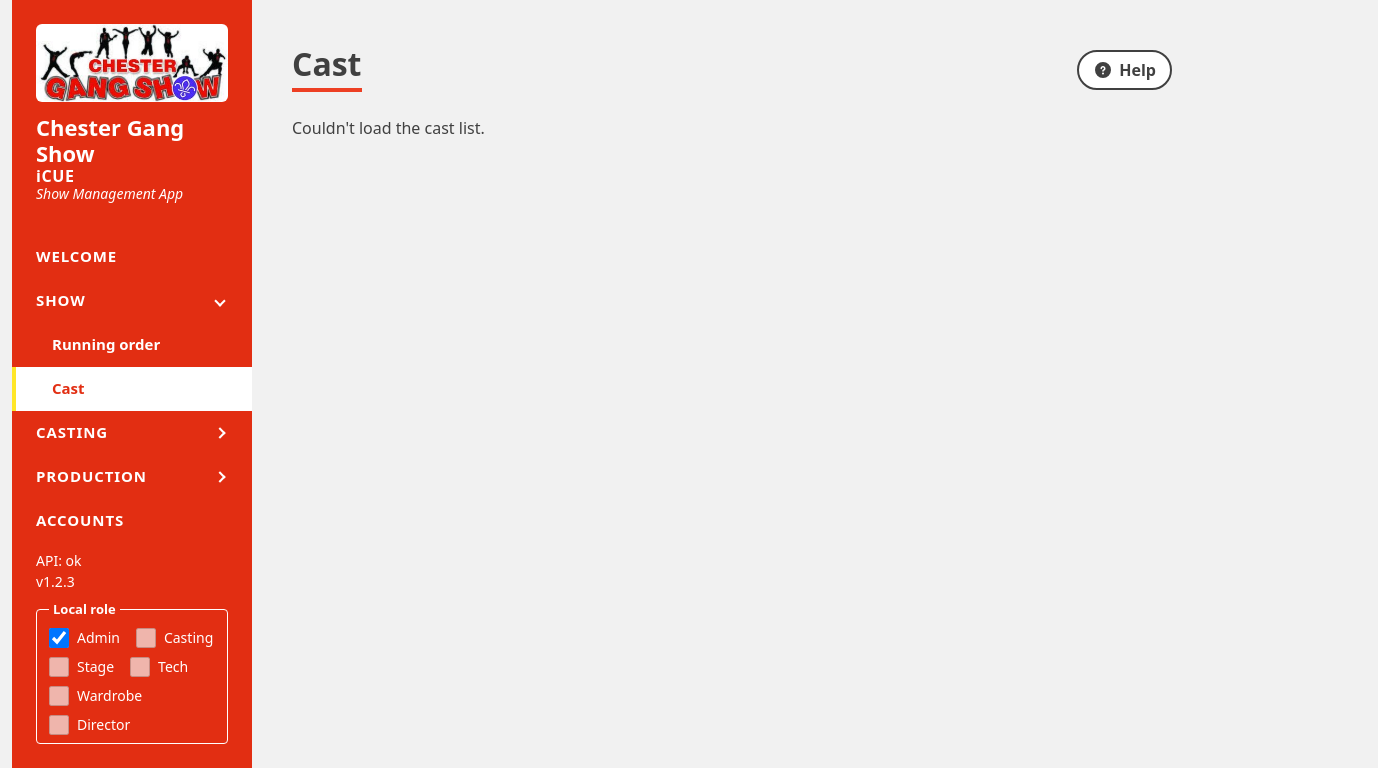
App shell › marks a folded group's label, in words too, when the current page is inside it
Step 1. Click the button with id "menu-show" → (132, 301), box [12,279,252,323]
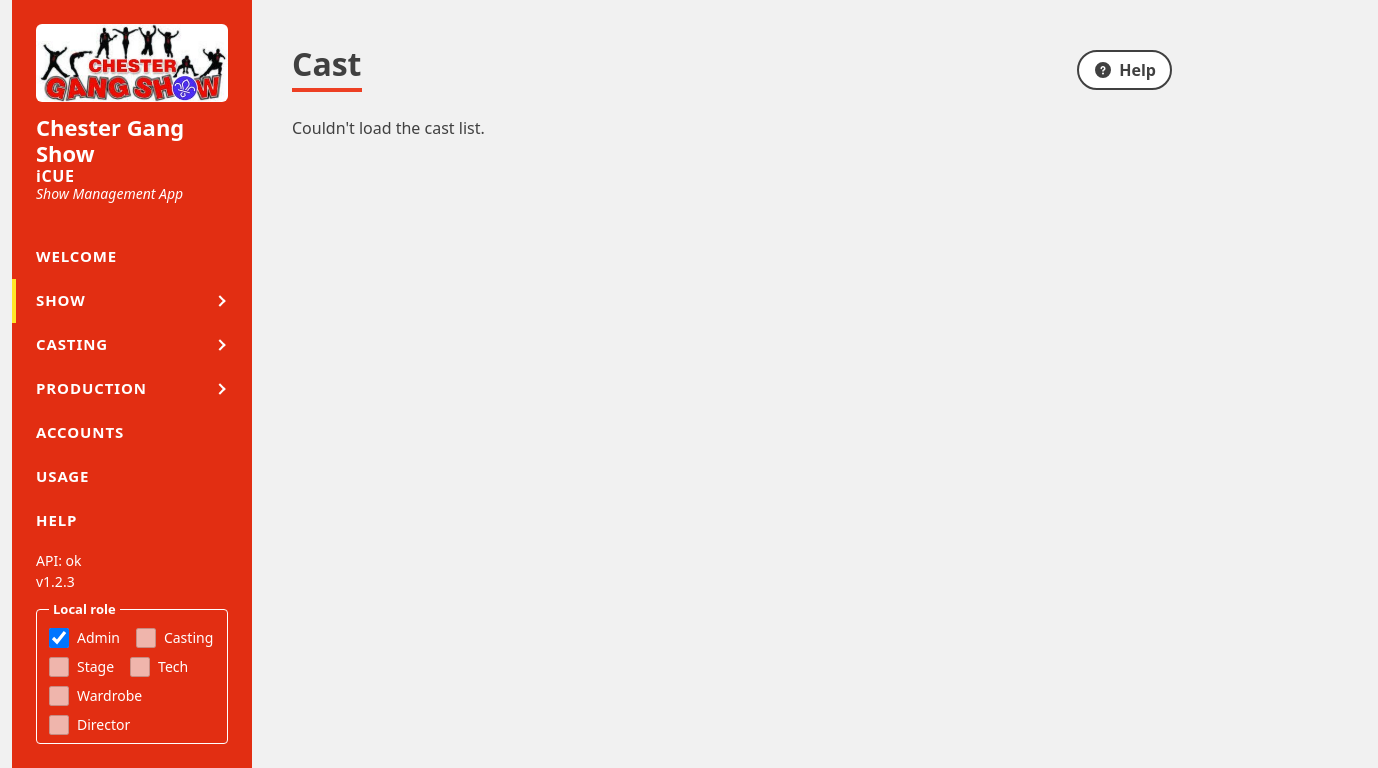
Expected: the button with id "menu-casting" reads "Casting", [12,323,252,367]
Expected: the button with id "menu-show" is collapsed, [12,279,252,323]
